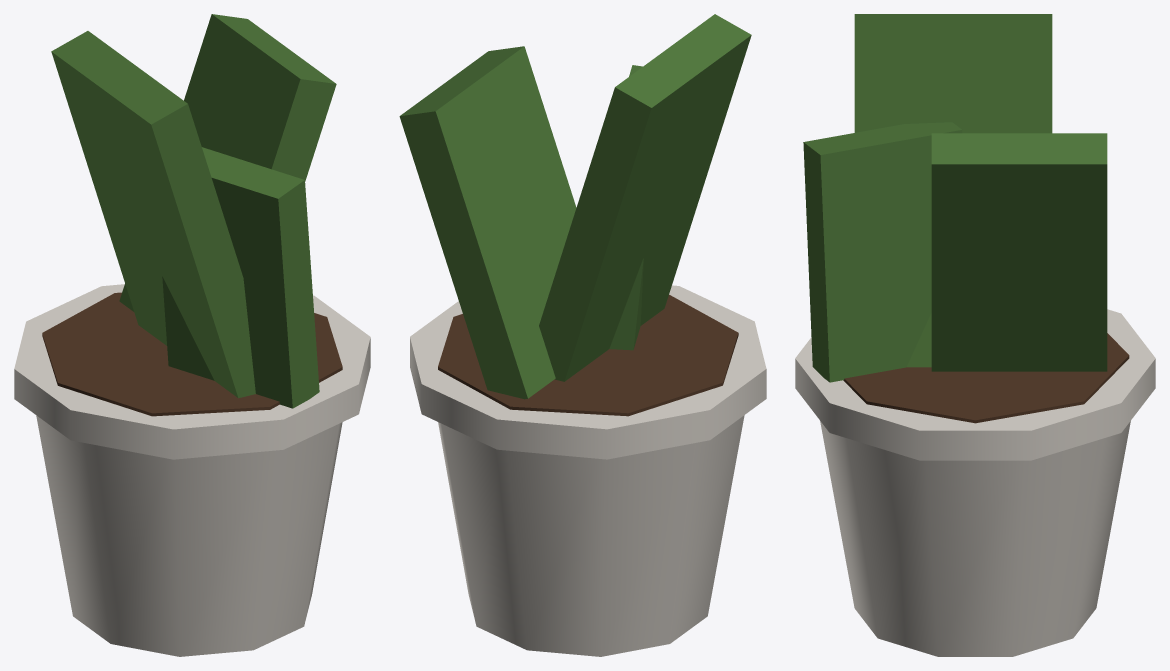
The model's file is PRP_P0_Plant_Small_A.obj.
3 renders of one model, left to right at view 1: azimuth 30°, elevation 25°; view 2: azimuth 150°, elevation 25°; view 3: azimuth 270°, elevation 25°, orthographic.
Visible parts, largest first — view 1: pot, leaf_a, pot_rim, leaf_c, leaf_b, soil; view 2: pot, leaf_b, leaf_a, pot_rim, soil, leaf_c; view 3: pot, leaf_b, leaf_c, leaf_a, pot_rim, soil.
Boxes of the visible parts, x1,y1,x2,y2 form: pot: (36, 415, 342, 656); leaf_a: (51, 31, 255, 398); pot_rim: (14, 284, 370, 459); leaf_c: (162, 147, 319, 408); leaf_b: (119, 14, 336, 311); soil: (42, 292, 342, 416); pot: (438, 415, 744, 656); leaf_b: (399, 46, 576, 399); leaf_a: (539, 14, 751, 381); pot_rim: (410, 285, 766, 459); soil: (438, 294, 738, 416); leaf_c: (609, 65, 643, 350); pot: (820, 421, 1130, 656); leaf_b: (931, 133, 1107, 371); leaf_c: (803, 122, 962, 382); leaf_a: (854, 14, 1052, 367); pot_rim: (795, 309, 1155, 460); soil: (843, 333, 1129, 423).
Size of the model in its own units: 0.156 by 0.2794 by 0.164.
